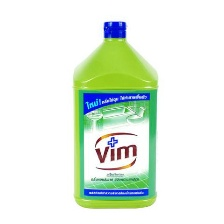cleaning_solution: (70, 19, 160, 213)
